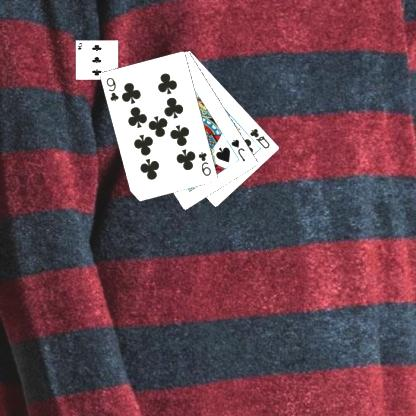9C: (103, 75, 120, 103), (196, 149, 212, 178)
JS: (228, 136, 247, 163)
QC: (247, 126, 272, 150)
